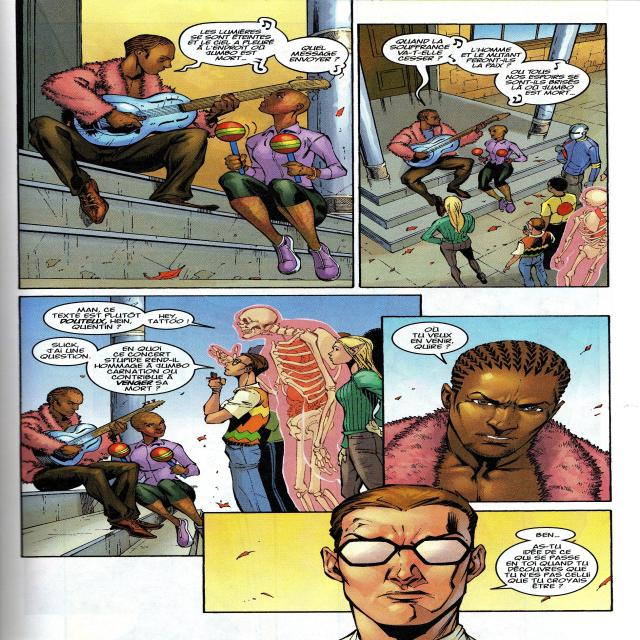comic_panel: (18, 294, 424, 558), (17, 0, 356, 290), (356, 21, 609, 290), (200, 483, 616, 640), (381, 315, 612, 503)
